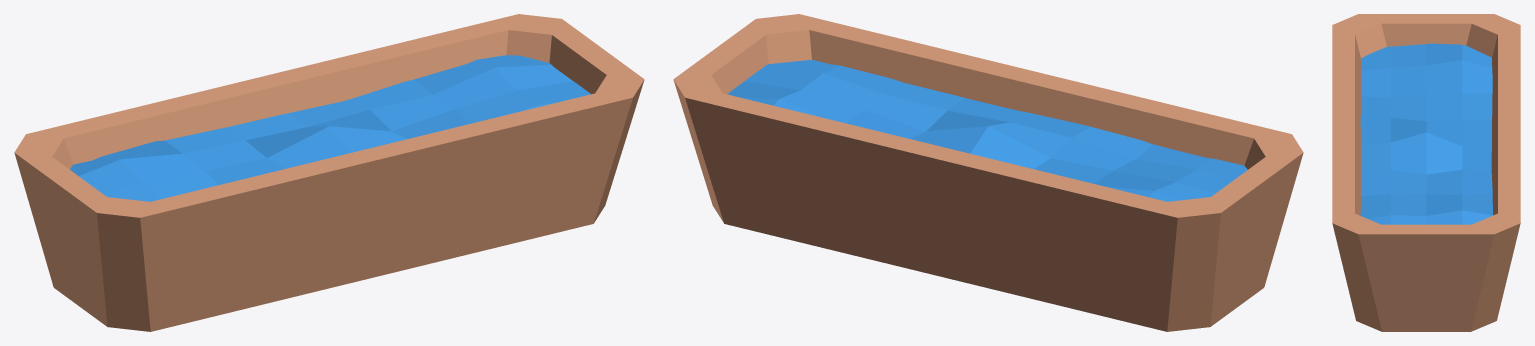
The model's file is DrinkingBowl.fbx.
3 views of the same model, side by side, from view 1: azimuth 30°, elevation 25°; view 2: azimuth 150°, elevation 25°; view 3: azimuth 270°, elevation 25° (orthographic). The views are drawn at different scales.
Parts seen in each view (by area): view 1: Bowl; view 2: Bowl; view 3: Bowl.
Part boxes in pixels (box(x1,y1,x2,y2)): Bowl: box(14, 14, 644, 331); Bowl: box(673, 14, 1303, 331); Bowl: box(1332, 14, 1520, 331).
Size of the model in its own units: 2.19 by 0.7921 by 0.5.
